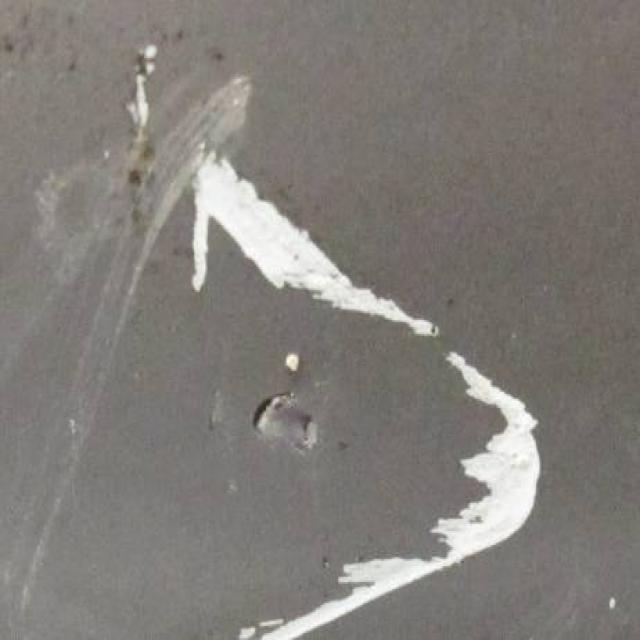Peeling: (251, 394, 323, 457), (125, 39, 158, 145)
